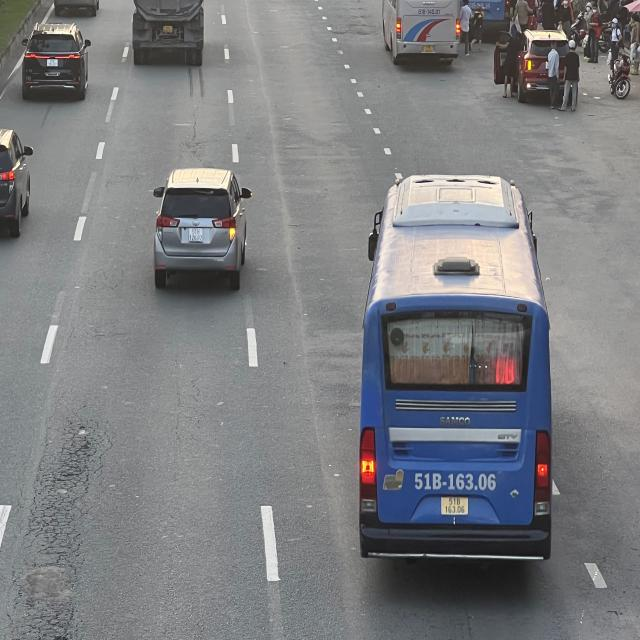car: (154, 167, 252, 287), (22, 25, 92, 103), (0, 129, 32, 234)
coach: (362, 179, 548, 575), (379, 0, 463, 62)
container: (130, 0, 205, 60)
